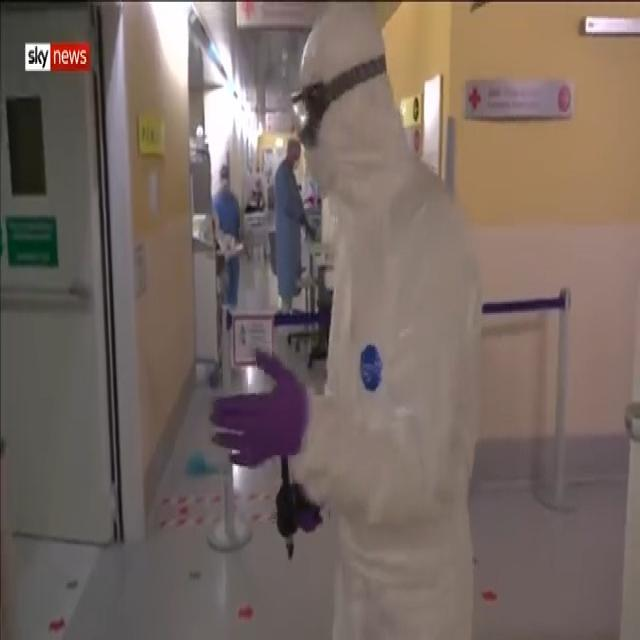Goggles: (288, 55, 385, 146)
